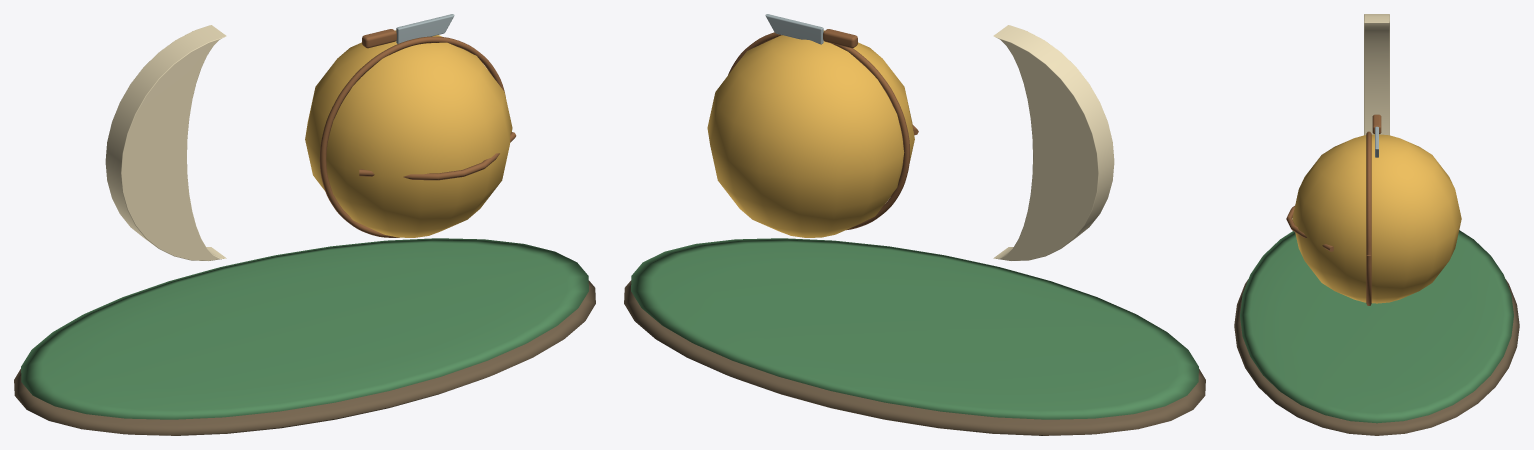
File: round-moon.glb
The picture shows the model from 3 angles, left to right: view 1: azimuth 30°, elevation 25°; view 2: azimuth 150°, elevation 25°; view 3: azimuth 270°, elevation 25°; orthographic projection. The views are drawn at different scales.
Visible parts, largest first — view 1: round-moon_surface_01, round-moon_surface_03, round-moon_surface_02, round-moon_surface_00, round-moon_surface_04, round-moon_surface_05; view 2: round-moon_surface_01, round-moon_surface_03, round-moon_surface_02, round-moon_surface_00, round-moon_surface_04, round-moon_surface_05; view 3: round-moon_surface_01, round-moon_surface_03, round-moon_surface_00, round-moon_surface_02, round-moon_surface_04.
Boxes of the visible parts, x1,y1,x2,y2 form: round-moon_surface_01: (21,238,588,419); round-moon_surface_03: (305,30,512,237); round-moon_surface_02: (105,25,226,260); round-moon_surface_00: (14,280,595,435); round-moon_surface_04: (319,29,516,237); round-moon_surface_05: (396,14,454,43); round-moon_surface_01: (631,238,1198,419); round-moon_surface_03: (707,30,914,237); round-moon_surface_02: (993,25,1114,260); round-moon_surface_00: (624,280,1205,435); round-moon_surface_04: (728,29,918,230); round-moon_surface_05: (765,14,823,44); round-moon_surface_01: (1240,230,1513,423); round-moon_surface_03: (1292,134,1461,303); round-moon_surface_00: (1234,279,1519,435); round-moon_surface_02: (1364,14,1389,135); round-moon_surface_04: (1286,114,1381,305).
Size of the model in its own units: 4.56 by 2.73 by 2.5.
